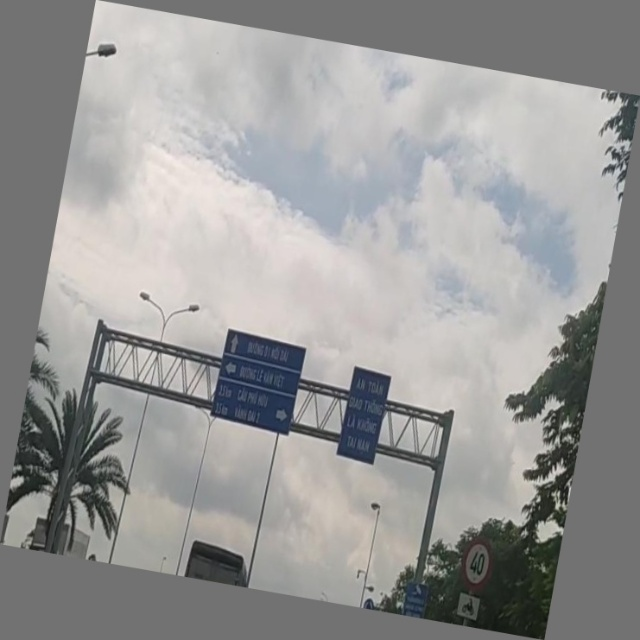P.127*40: (458, 532, 497, 592)
S.505a*Xe may: (454, 591, 483, 622)
